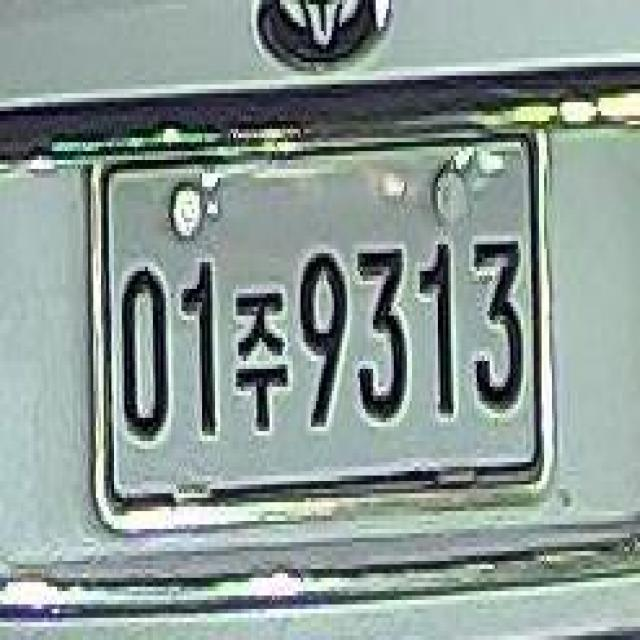illegal_plate: (76, 119, 559, 536)
